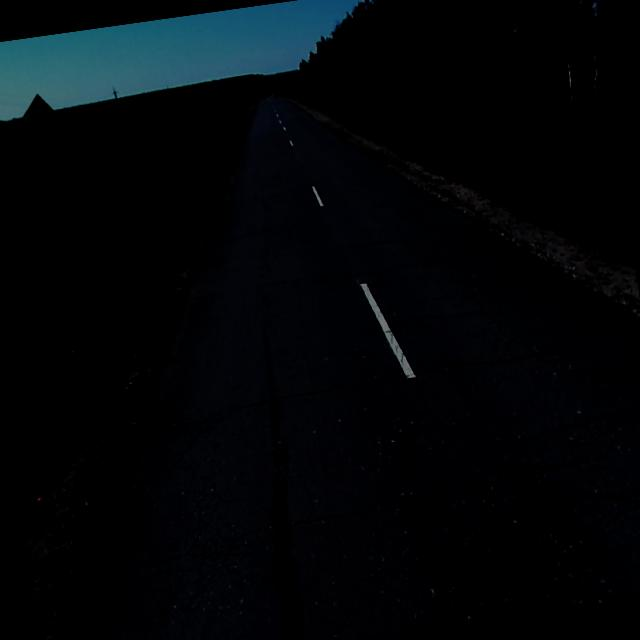road: (54, 95, 640, 640)
